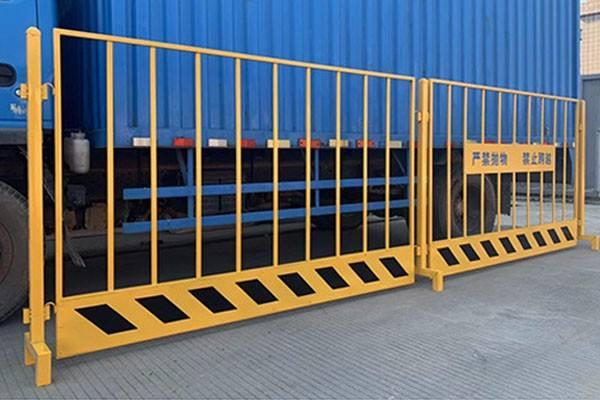sign: (19, 20, 421, 334), (418, 68, 600, 282)
